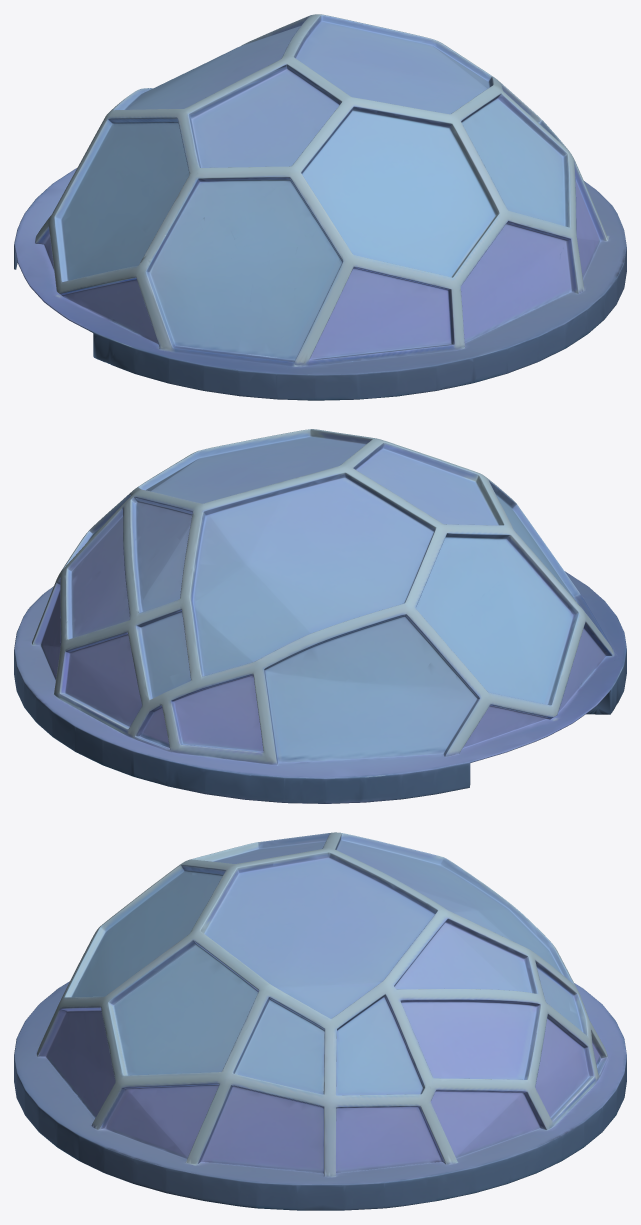
3 views of the same model, one above another, from view 1: azimuth 30°, elevation 25°; view 2: azimuth 150°, elevation 25°; view 3: azimuth 270°, elevation 25° (orthographic).
Visible parts, largest first — view 1: material; view 2: material; view 3: material.
Boxes of the visible parts, box(x1,y1,x2,y2) form: material: box(14, 14, 626, 400); material: box(14, 429, 626, 803); material: box(14, 832, 626, 1210).
Size of the model in its own units: 5.2 by 2.04 by 5.2.
Materials: 1 (1 with a texture image).
